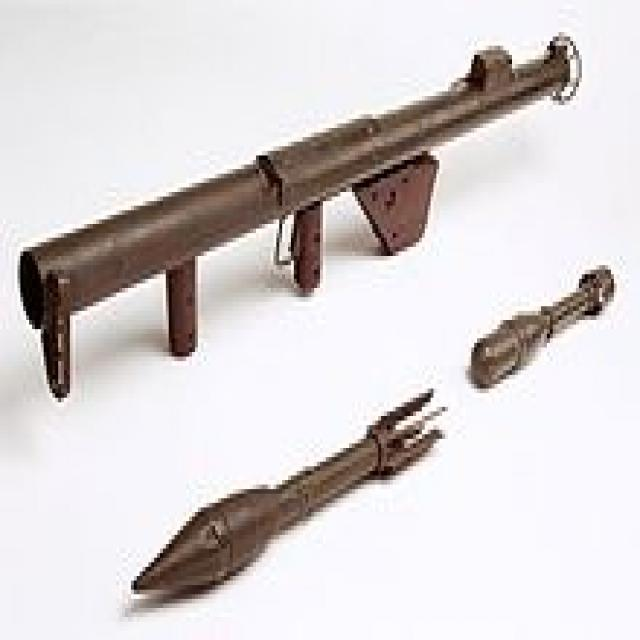rocket launcher: (18, 25, 587, 404)
